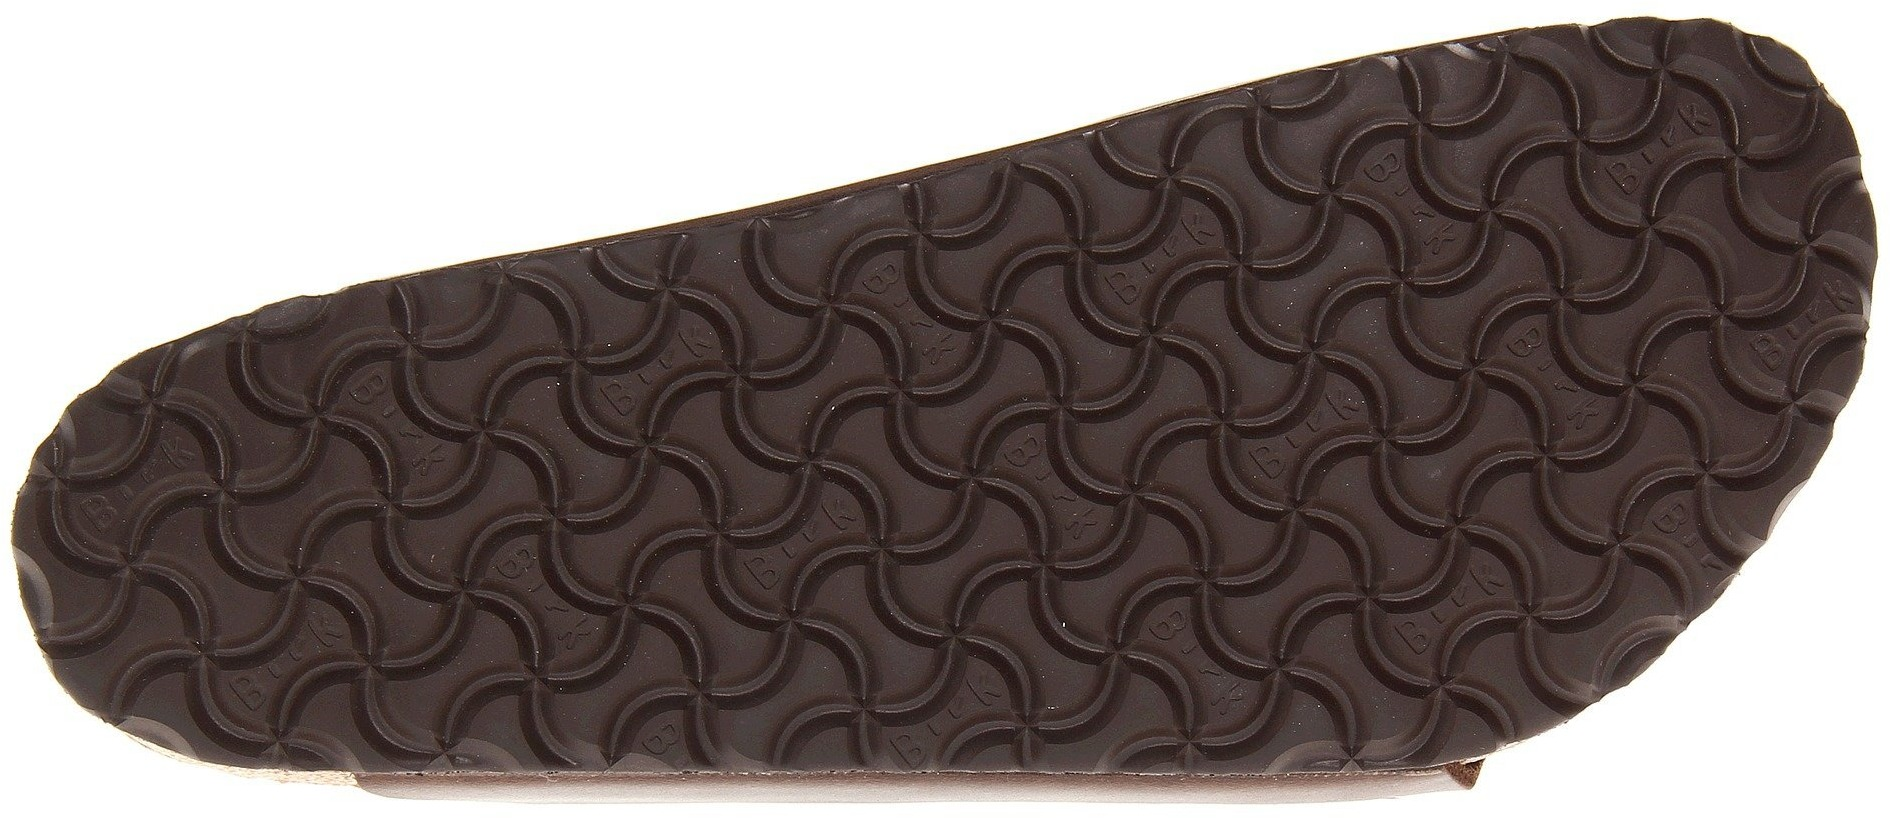bowtie: (337, 299, 767, 757), (773, 217, 1107, 520), (1377, 55, 1661, 373), (1297, 413, 1601, 694), (59, 422, 325, 670), (1113, 145, 1366, 398), (777, 524, 1028, 763), (1041, 528, 1284, 757), (1678, 146, 1862, 343), (1612, 392, 1766, 540)
text: (337, 299, 767, 757), (773, 217, 1107, 520), (1377, 55, 1661, 373), (1297, 413, 1601, 694), (59, 422, 325, 670), (1113, 145, 1366, 398), (777, 524, 1028, 763), (1041, 528, 1284, 757)
